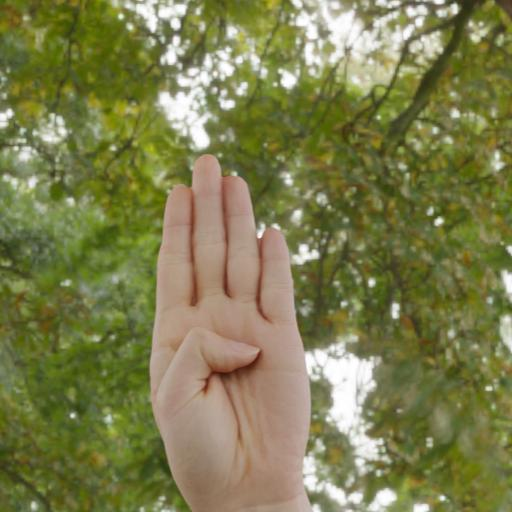B: (130, 139, 335, 512)
